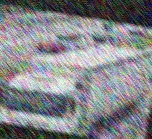truck: (0, 29, 152, 139)
